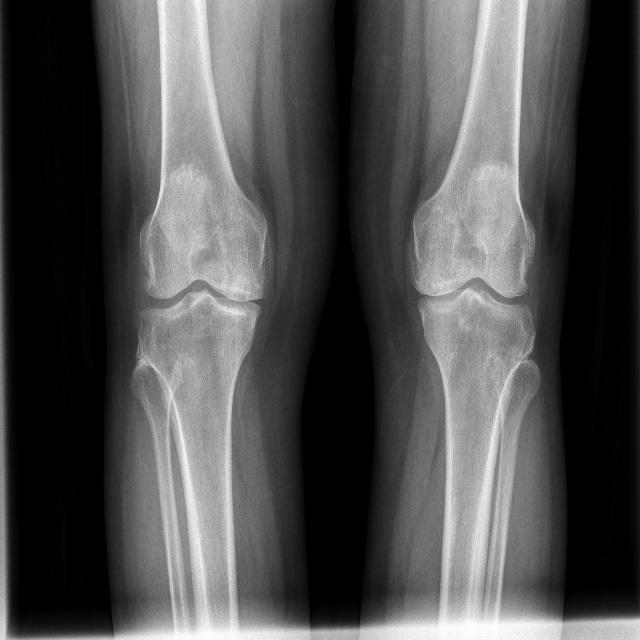Knee: (134, 208, 268, 384), (408, 211, 537, 359)
